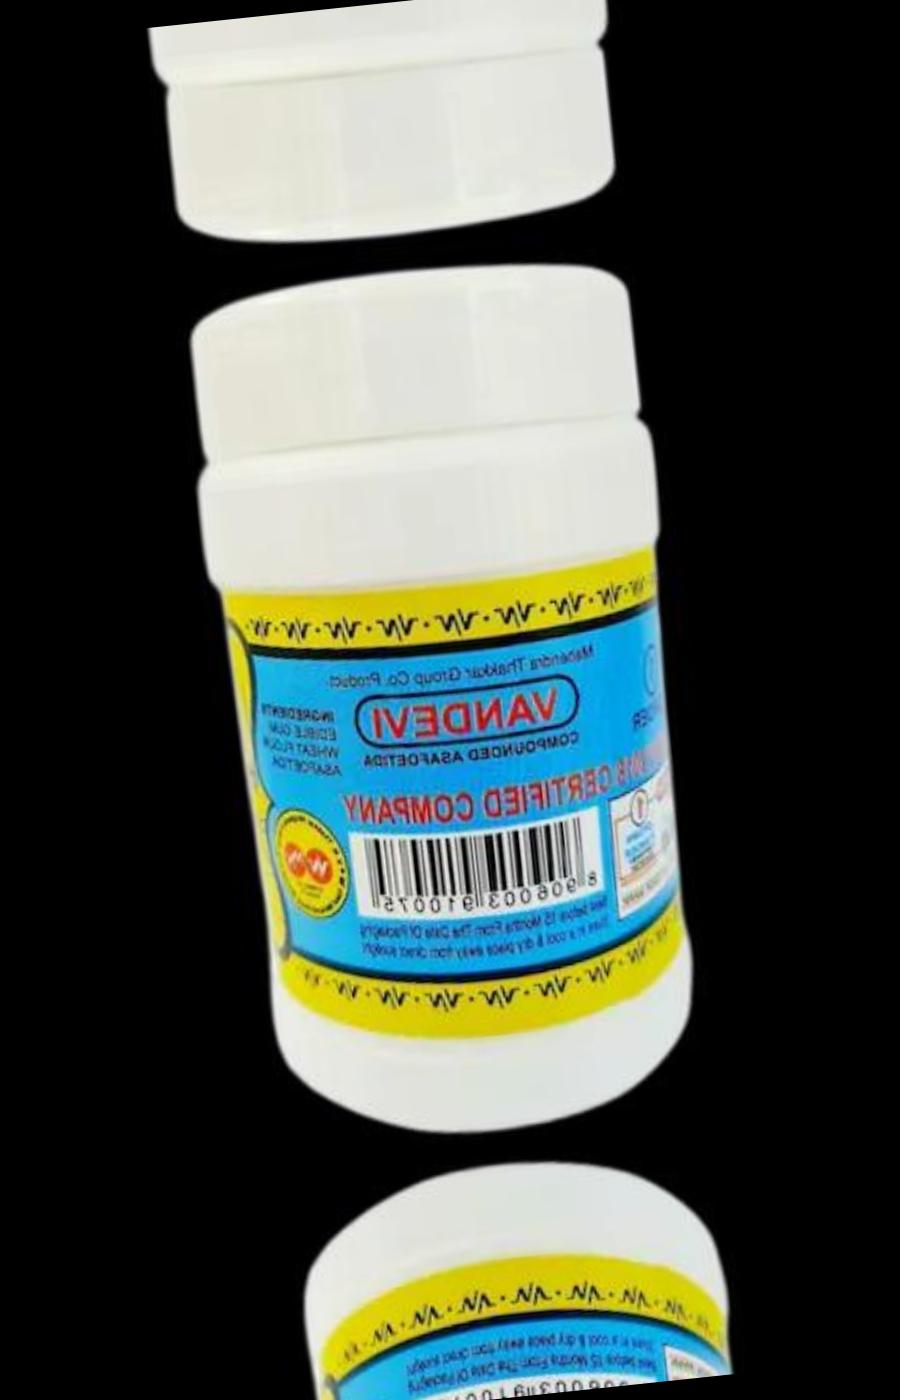Vandevi Bandhani No 1 Hing Powder 50 g: (157, 252, 726, 1158), (250, 1139, 754, 1400), (128, 0, 631, 254)
